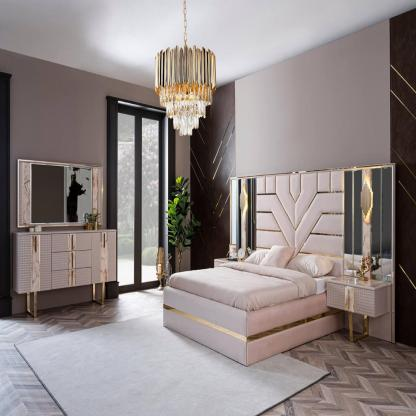Bed: (158, 224, 339, 360)
Sideboard: (12, 224, 122, 318)
Wall Panel: (183, 6, 416, 271)
Window: (107, 96, 176, 290)
